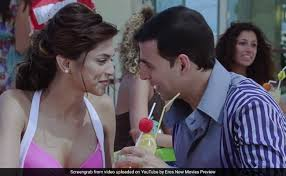Caution: (1, 4, 237, 167)
